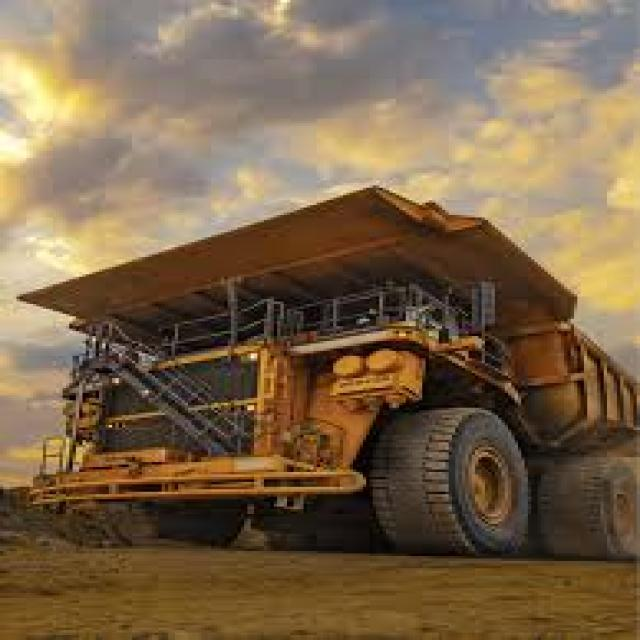dump_truck: (13, 186, 637, 574)
